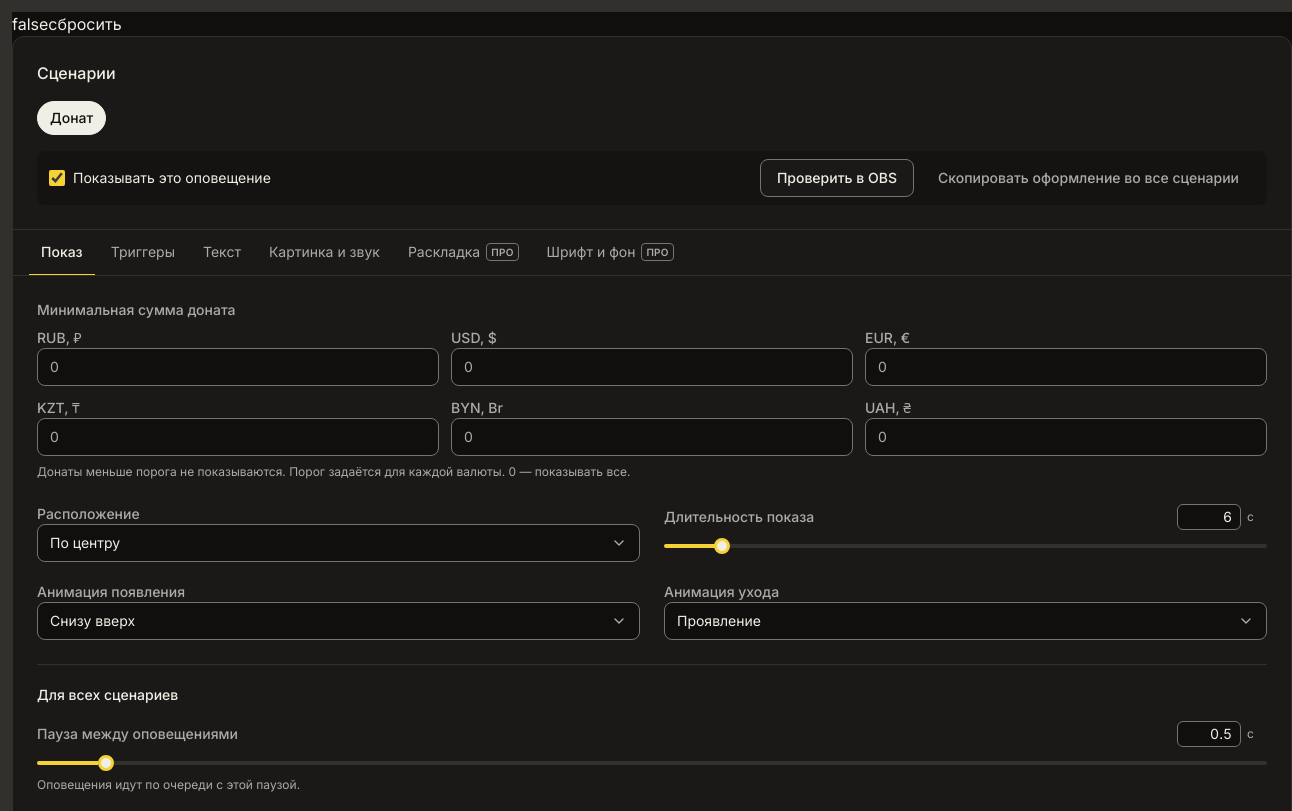
Test: несохранённые изменения › список: выбран другой и прежний
The width and height of the screenshot is (1292, 811).
Step 1. Select "Прыжок" in the dropdown labelled "Анимация появления" → (338, 621), box [37,602,640,640]
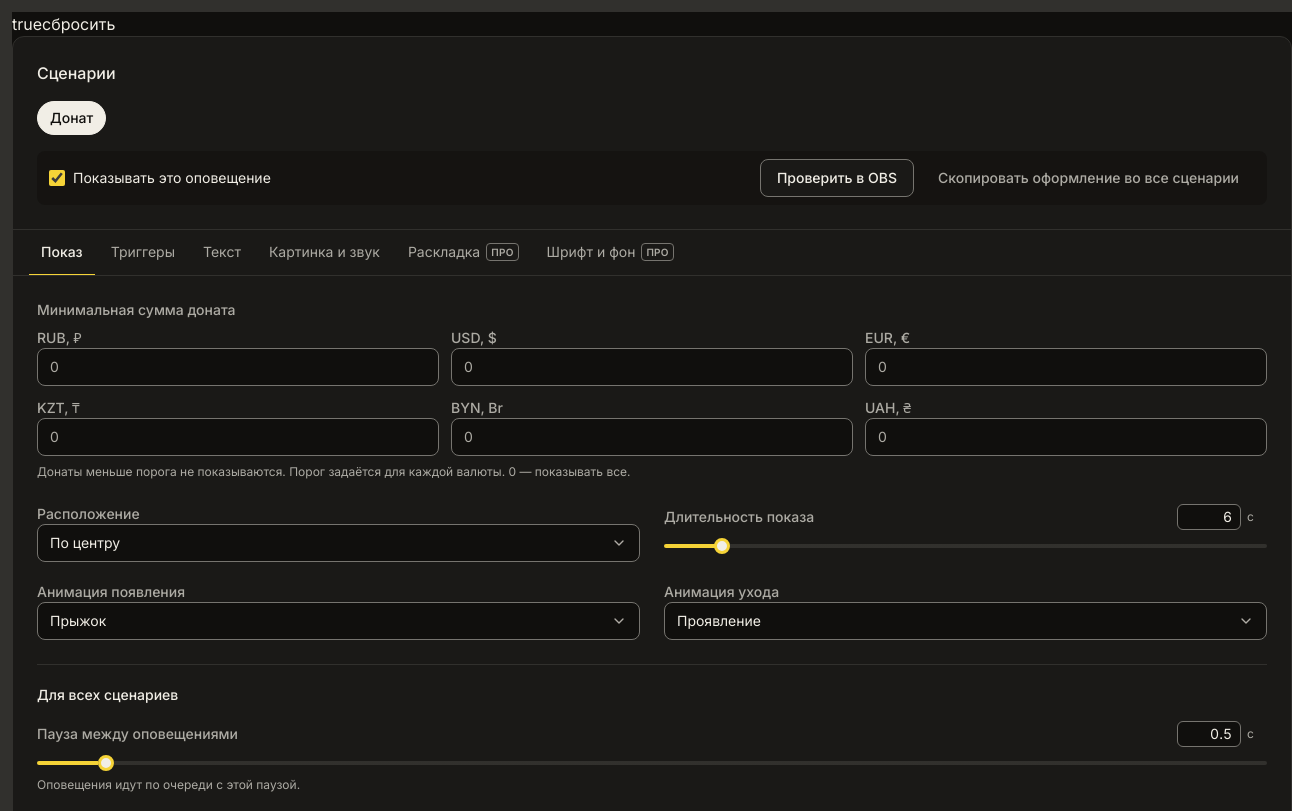
expect the text with test id "dirty" reads "true": met, box [12,14,42,34]
Step 2. Select "Снизу вверх" in the dropdown labelled "Анимация появления" → (338, 621), box [37,602,640,640]
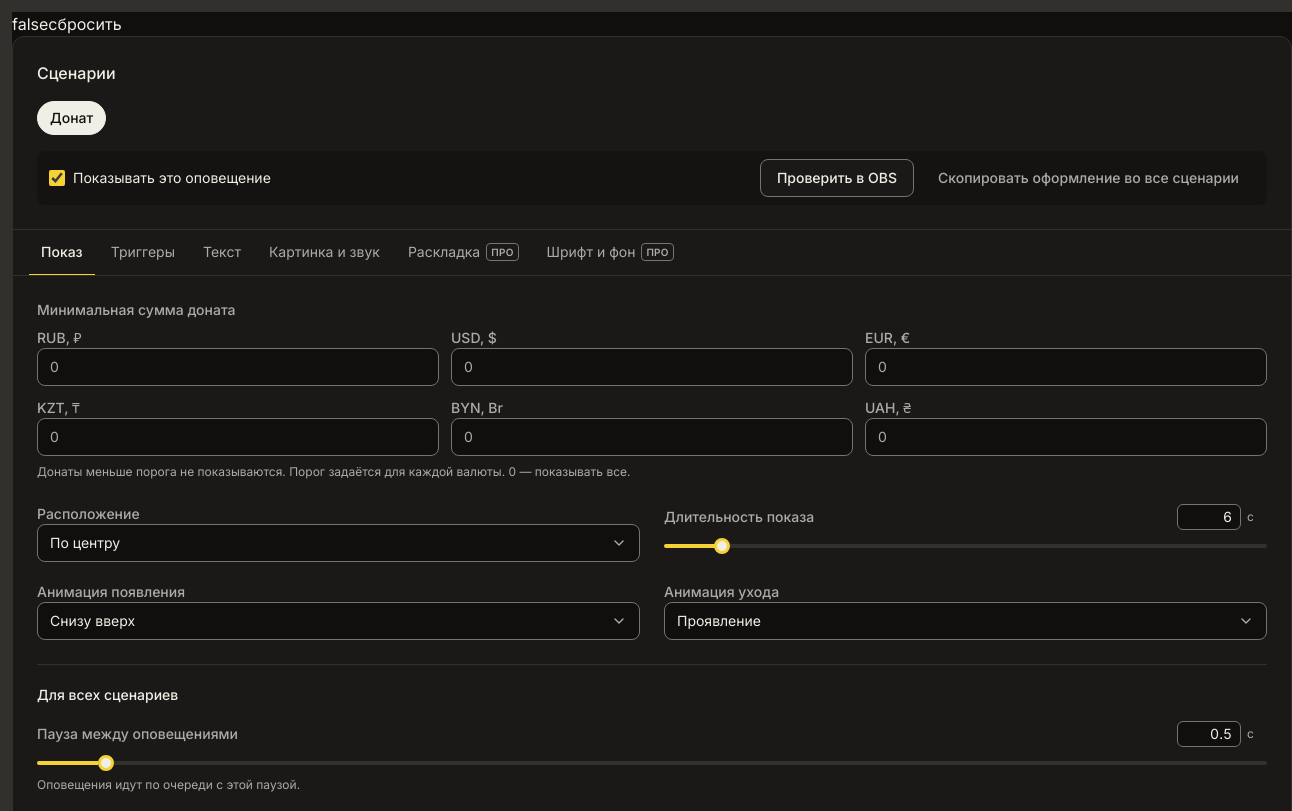
expect the text with test id "dirty" reads "false": met, box [12,14,48,34]
